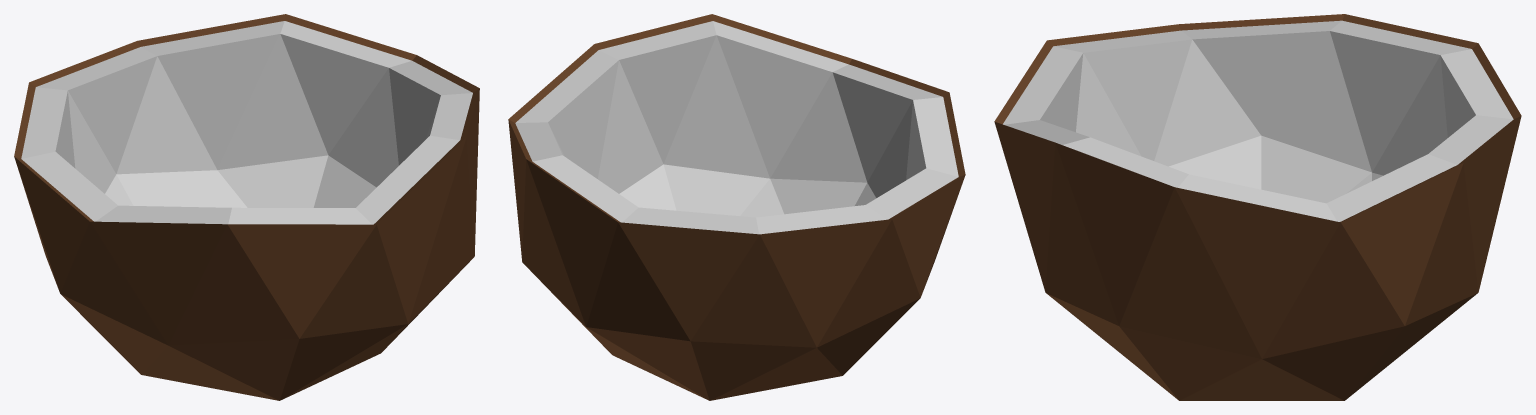
Rendered from CoconutBot.fbx.
3 views of the same model, side by side, from view 1: azimuth 30°, elevation 25°; view 2: azimuth 150°, elevation 25°; view 3: azimuth 270°, elevation 25° (orthographic). The views are drawn at different scales.
Visible parts, largest first — view 1: Icosphere.002; view 2: Icosphere.002; view 3: Icosphere.002.
Part boxes in pixels (x1,y1,x2,y2): Icosphere.002: (14, 14, 479, 400); Icosphere.002: (508, 14, 965, 400); Icosphere.002: (994, 14, 1521, 400).
Bounding box in the file's own units: 21.75 × 22.68 × 15.11.
